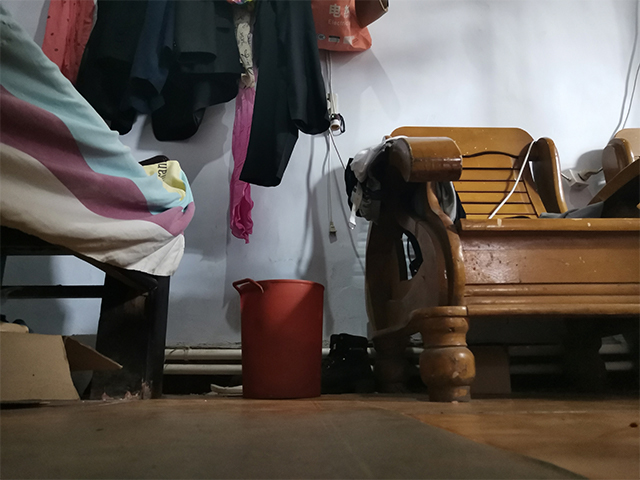stool: (362, 124, 640, 406)
trashcan: (231, 277, 327, 401)
